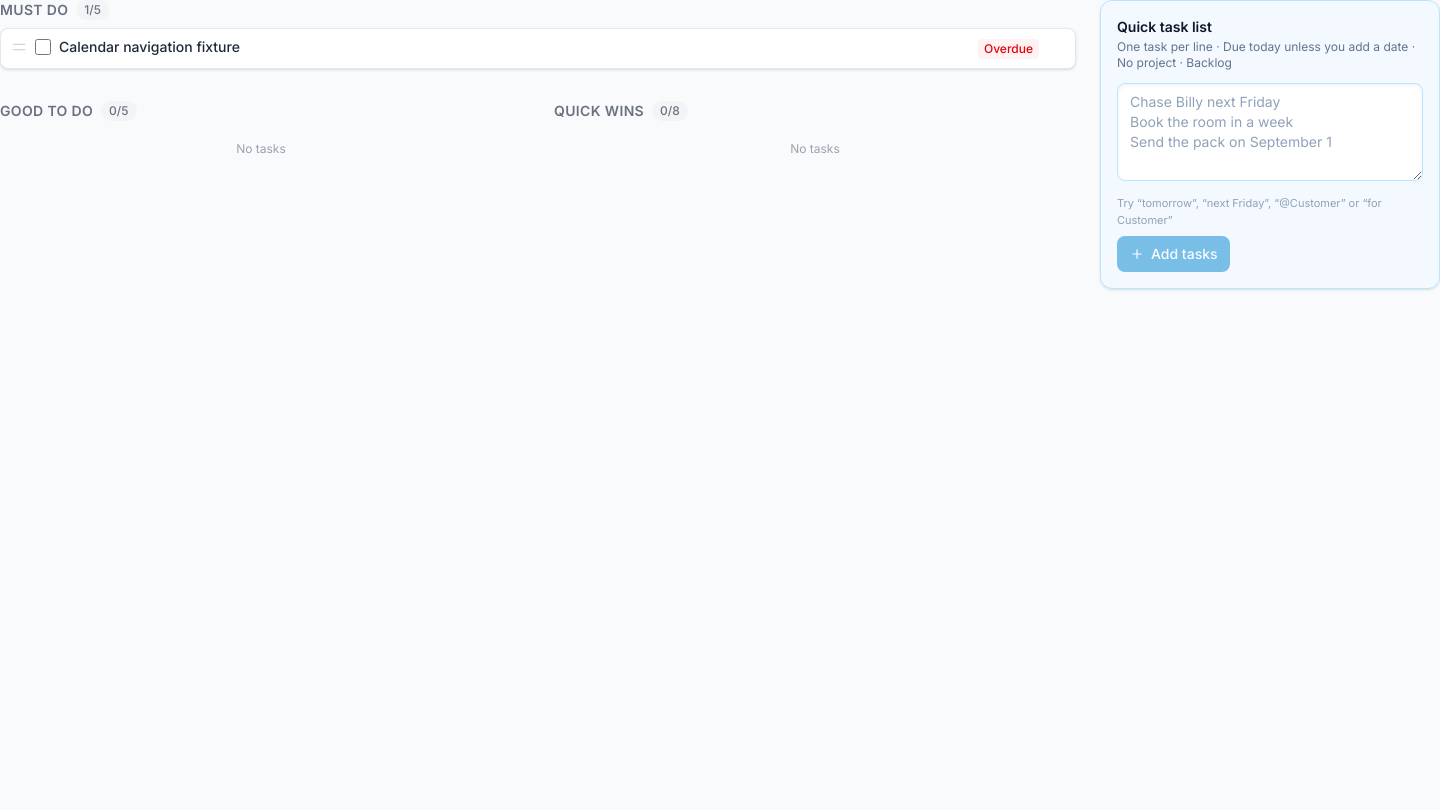
Test: Today keeps the actual task card while browsing dates, then moves it only after Save
Check: the button "Calendar navigation fixture" is shown, box [59,37,970,56]
Click the button with aria-label "Change task due date": (1008,48) [978,38,1039,58]
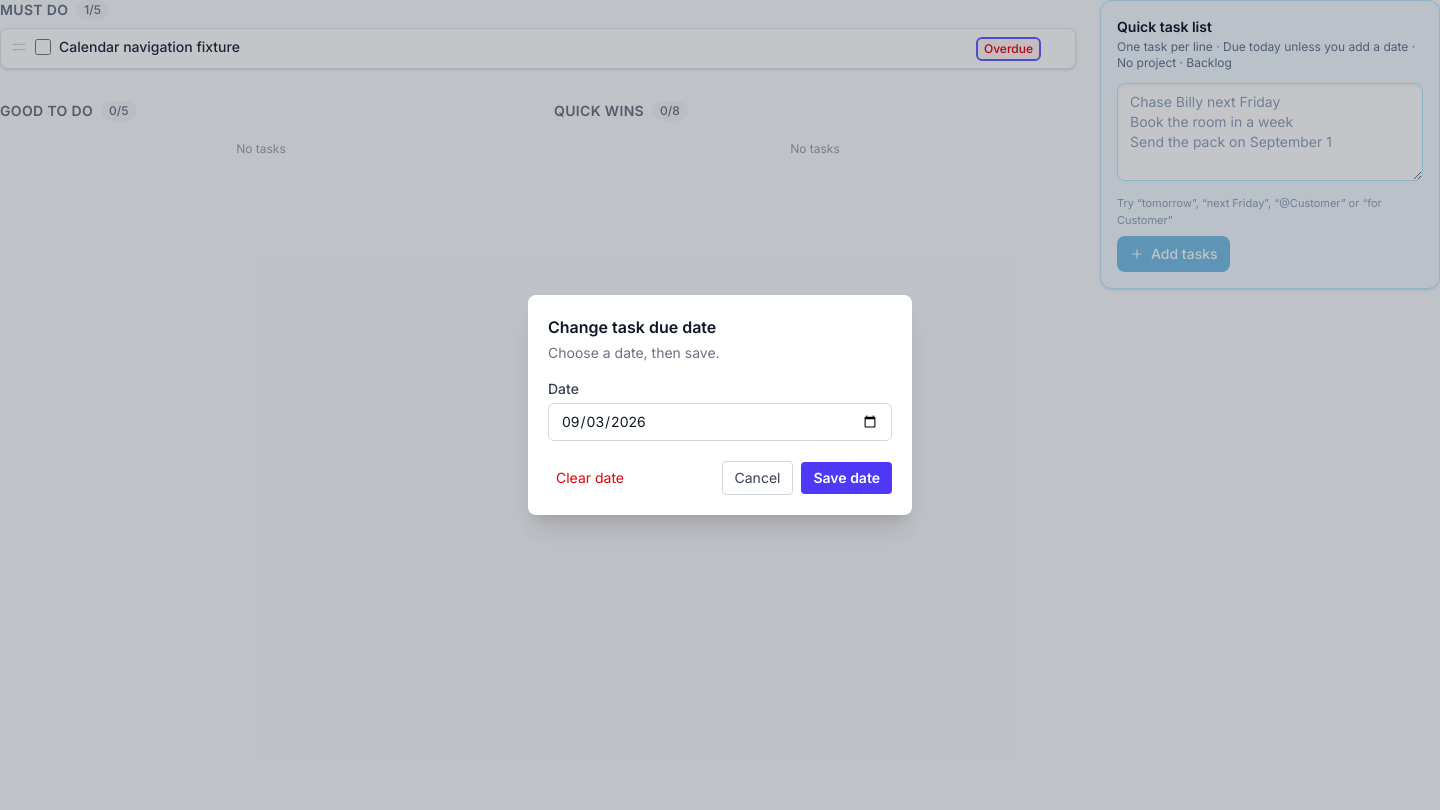
In the date field labelled "Date": (720,422) [548,403,892,441], type "2026-10-03"
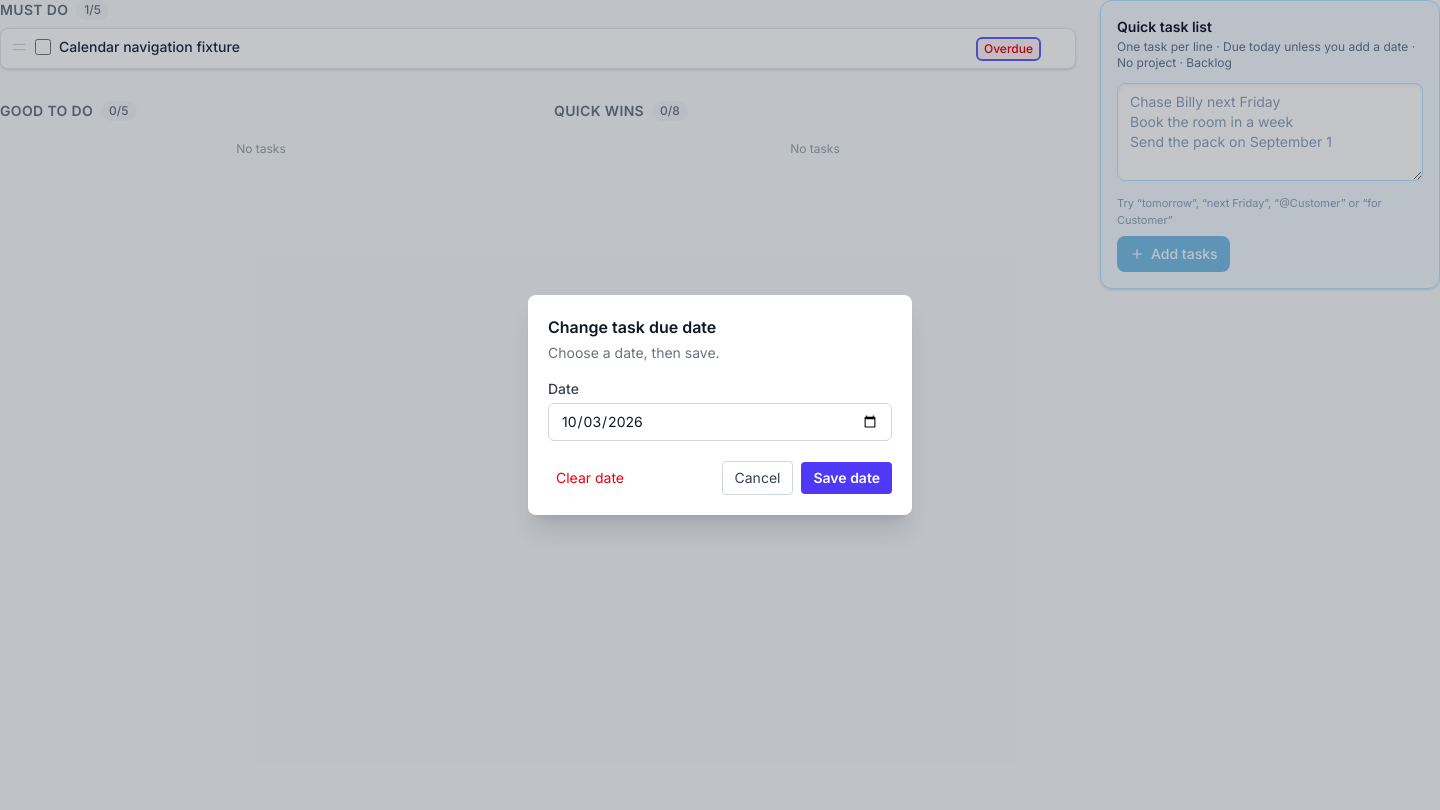
Check: the button "Calendar navigation fixture" is shown, box [59,37,970,56]
In the date field labelled "Date": (720,422) [548,403,892,441], type "2026-10-19"
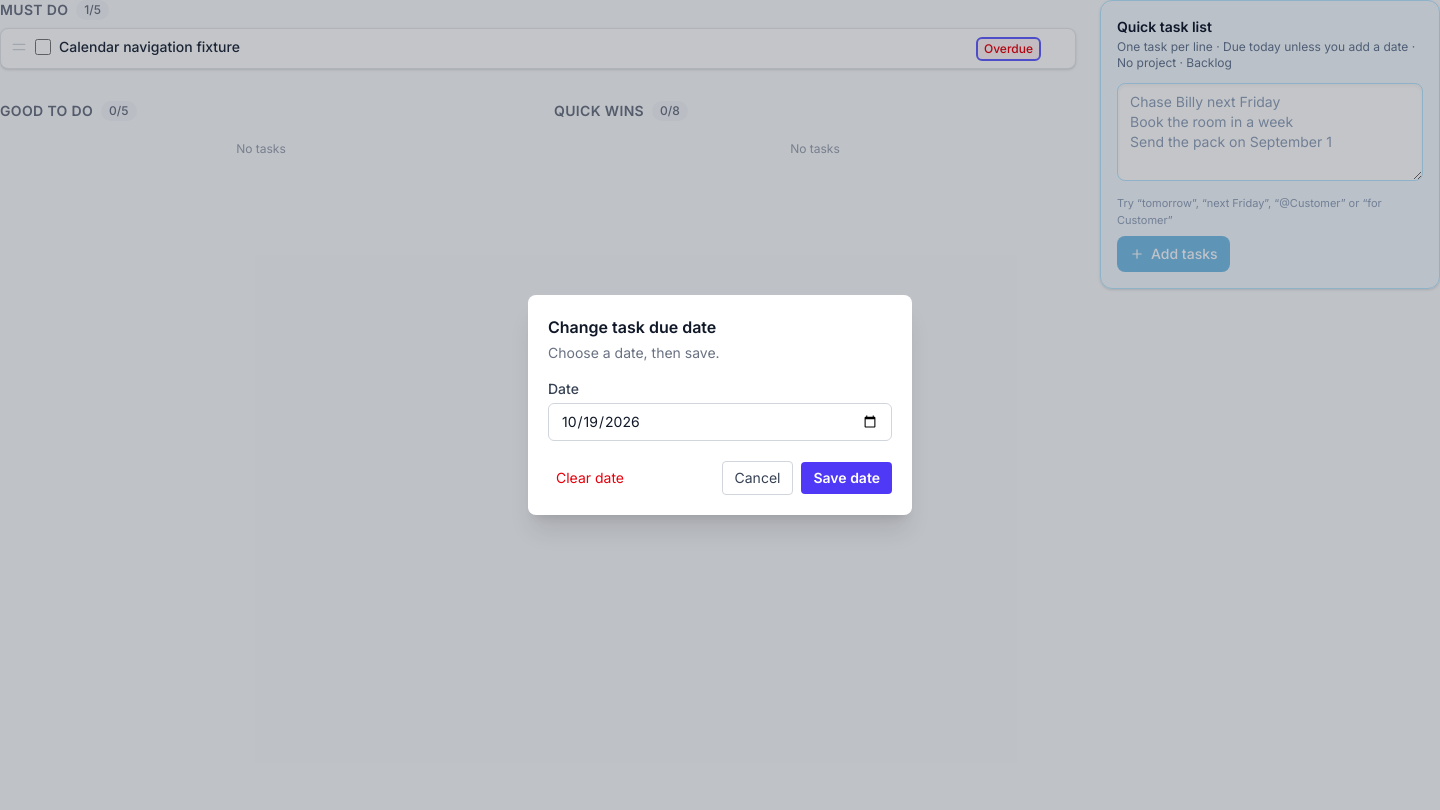
Click the button "Save date": (847,478) [802,462,892,494]
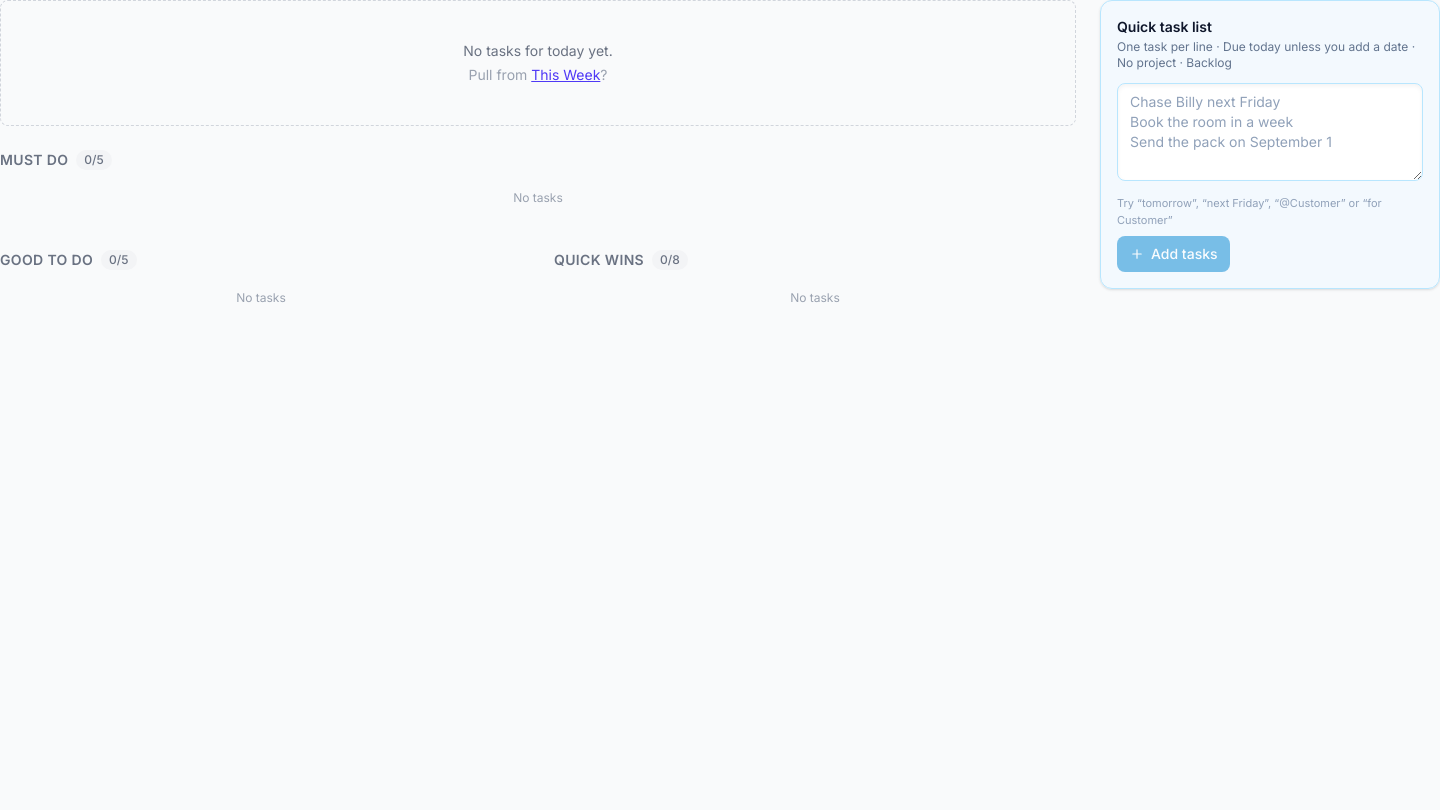
Check: the button "Calendar navigation fixture" is gone
